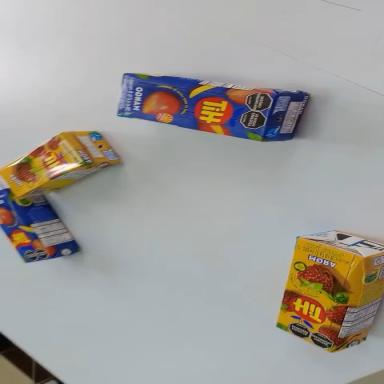HIT-MANGO: (117, 70, 310, 146), (0, 169, 82, 280)
HIT-MORA: (274, 222, 384, 360), (0, 115, 122, 210)
cara_F: (264, 235, 363, 353), (116, 74, 277, 142), (0, 129, 86, 199), (0, 188, 53, 272)
